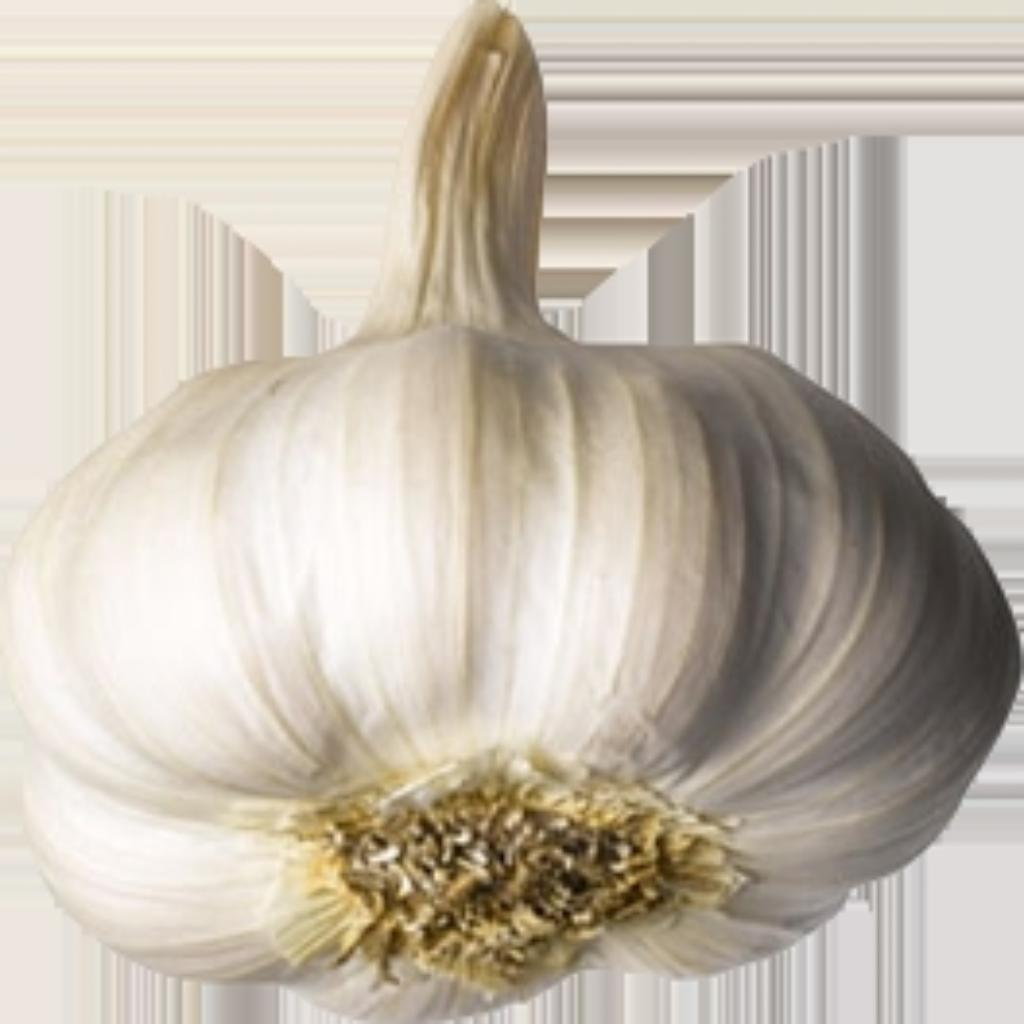garlic: (4, 0, 1008, 1012)
